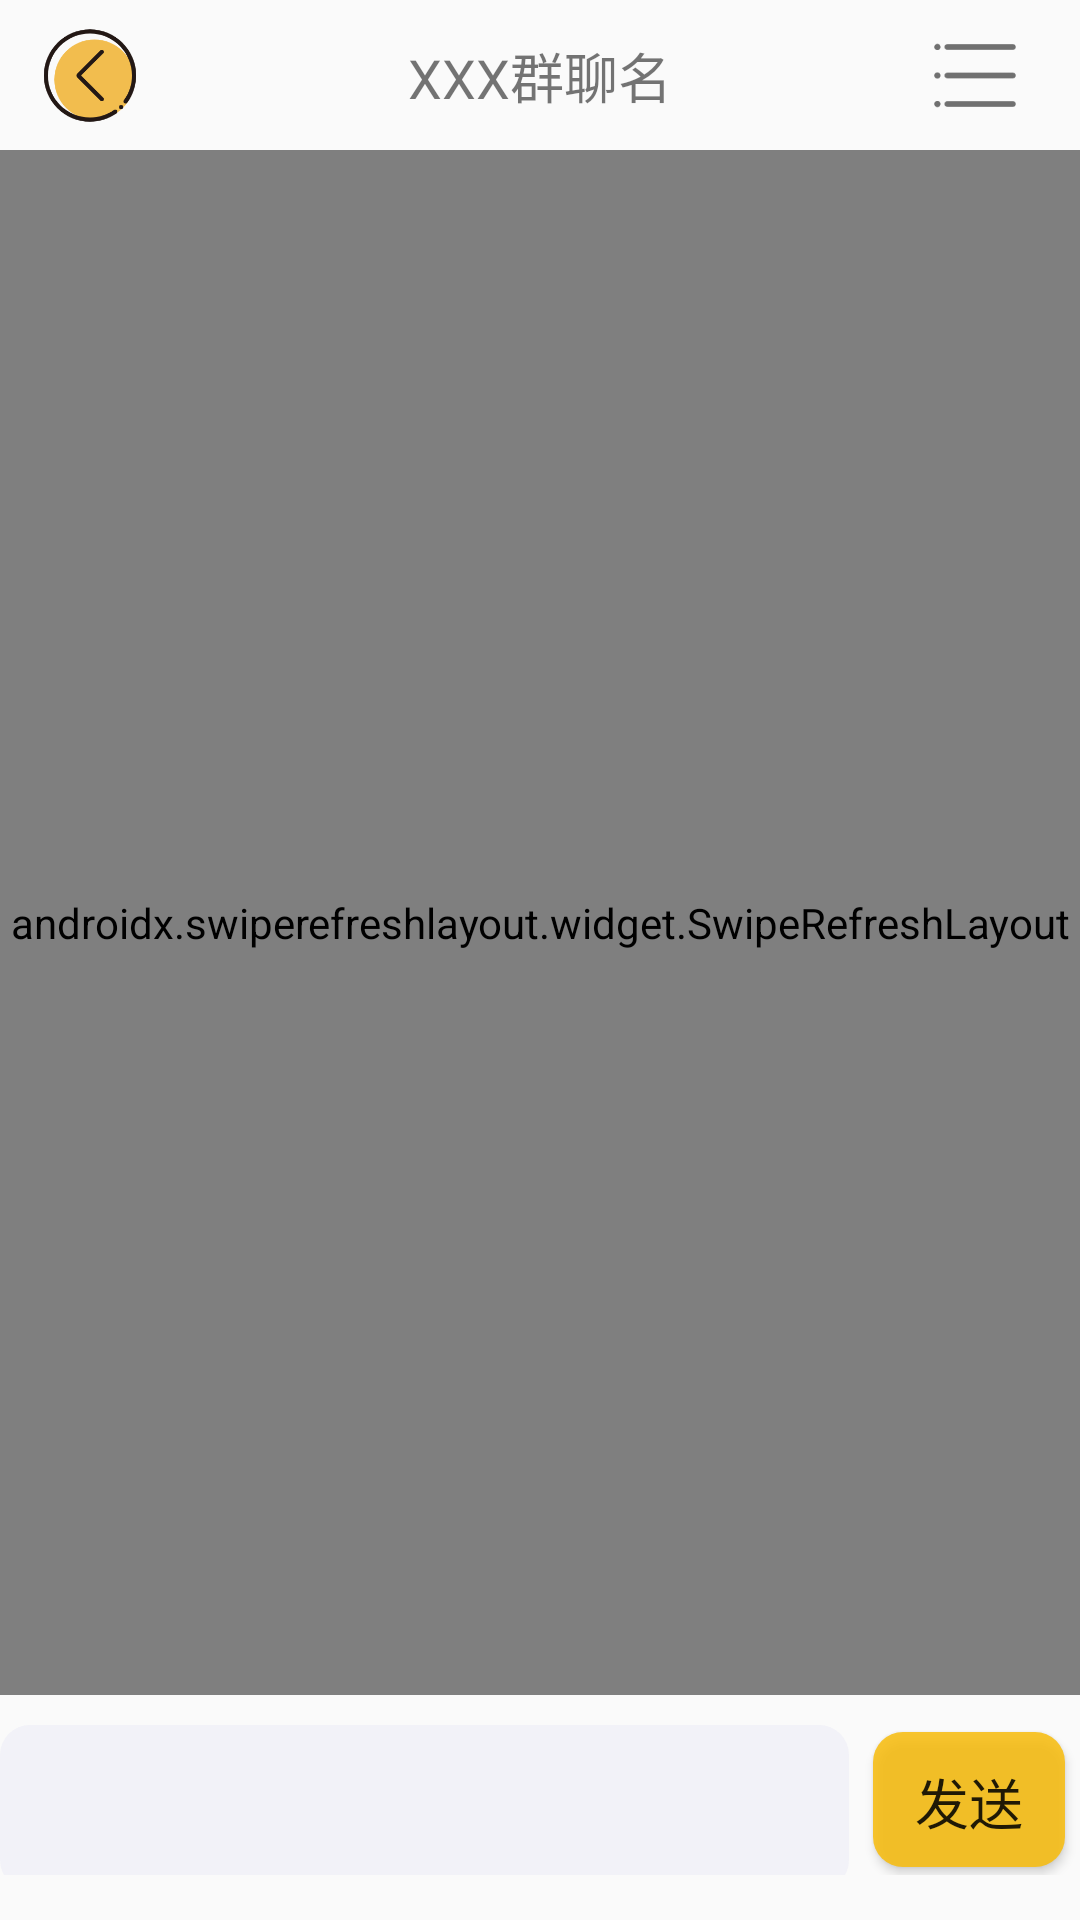

Where icons sit on this 1080px x 1920px app screen, as bbox=[x1, y1, x2, y2]:
fanhui: bbox=[44, 29, 136, 122]
group chatlist: bbox=[934, 43, 1016, 108]
